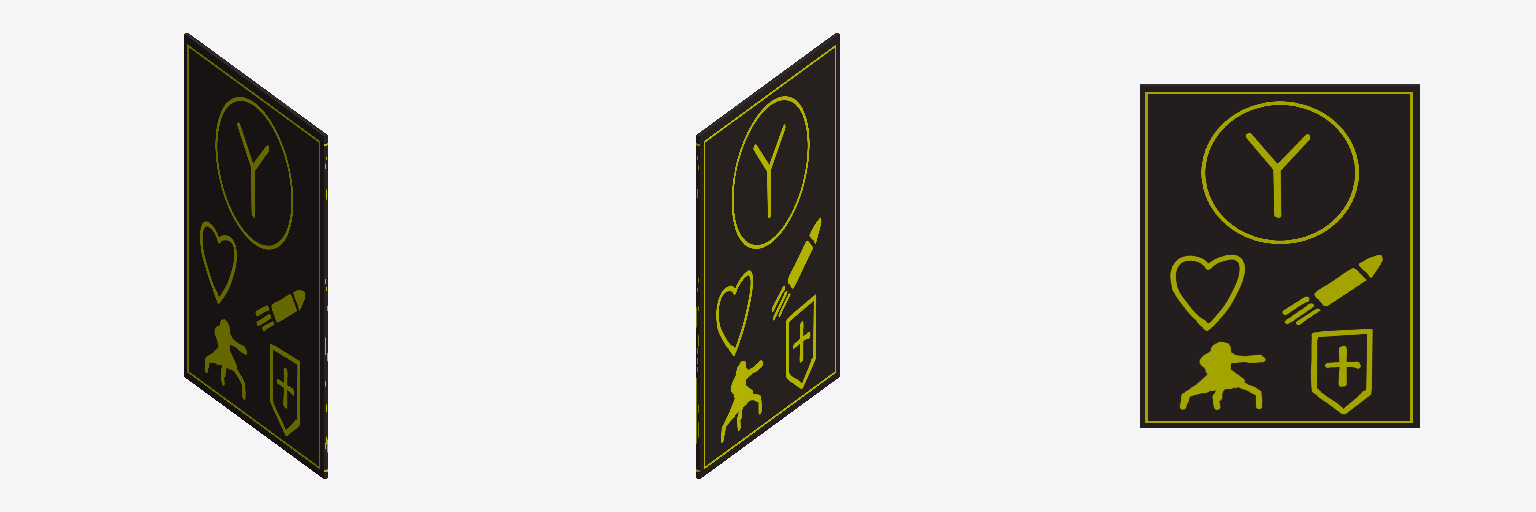
3 views of the same model, side by side, from view 1: azimuth 30°, elevation 25°; view 2: azimuth 150°, elevation 25°; view 3: azimuth 270°, elevation 25° (orthographic).
Visible parts, largest first — view 1: Cube.003_Cube.002; view 2: Cube.003_Cube.002; view 3: Cube.003_Cube.002.
Part boxes in pixels (left/top/right/bottom): Cube.003_Cube.002: left=184, top=33, right=327, bottom=478; Cube.003_Cube.002: left=696, top=33, right=839, bottom=478; Cube.003_Cube.002: left=1140, top=84, right=1419, bottom=427.
Size of the model in its own units: 0.0888 by 6.95 by 5.15.
Materials: 1 (1 with a texture image).